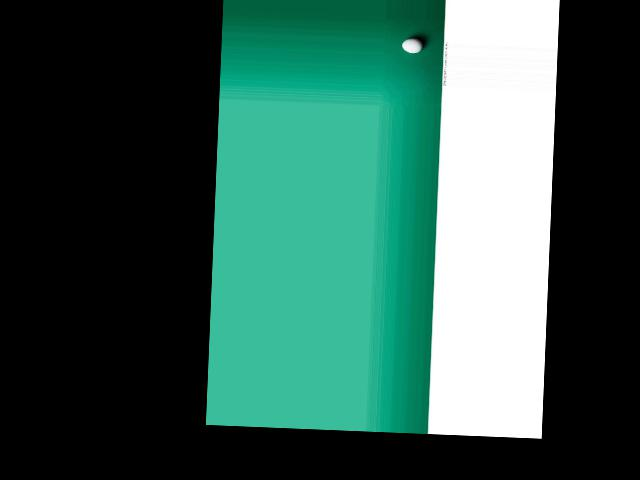egg: (402, 38, 423, 54)
